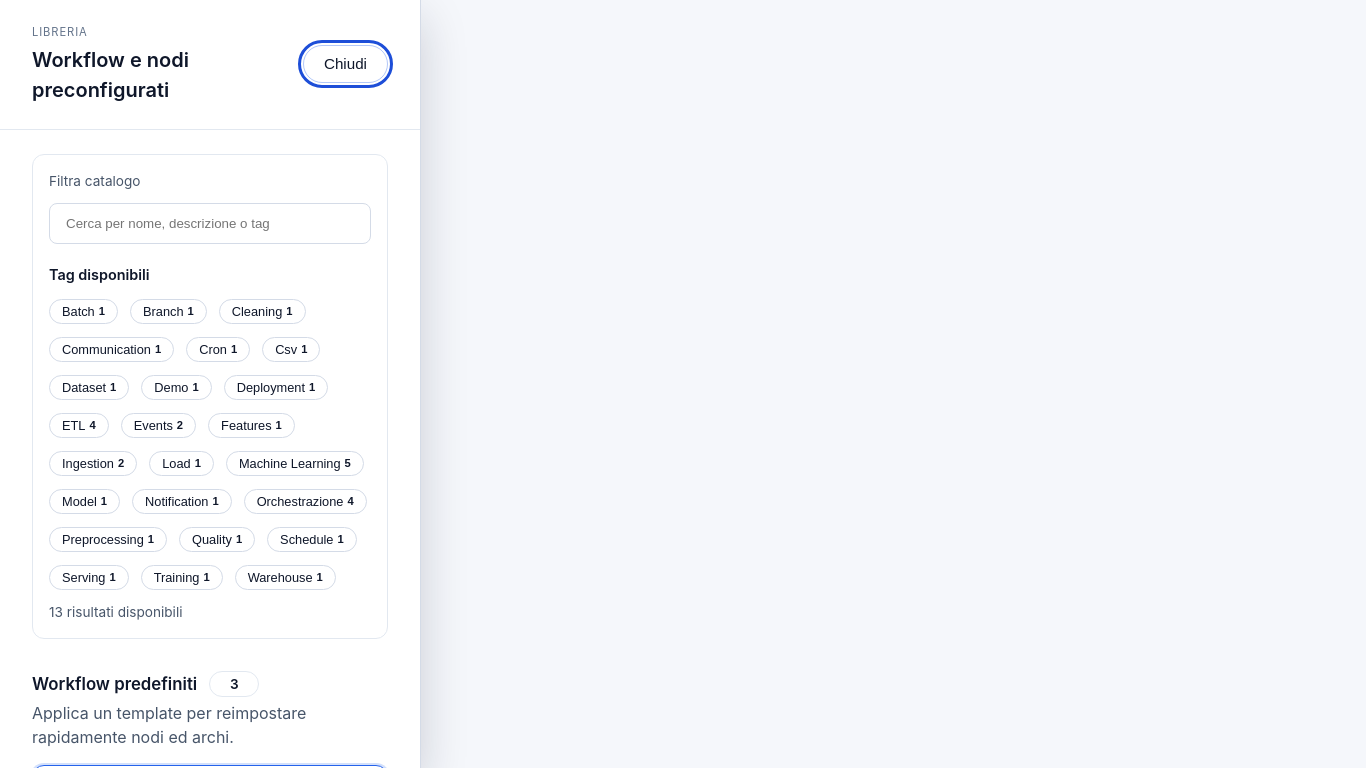
TemplateCatalog › permette di filtrare il catalogo tramite tag
Step 1. Click the button "Machine Learning 5" → (295,463), box [226,451,364,476]
(page scrolled)
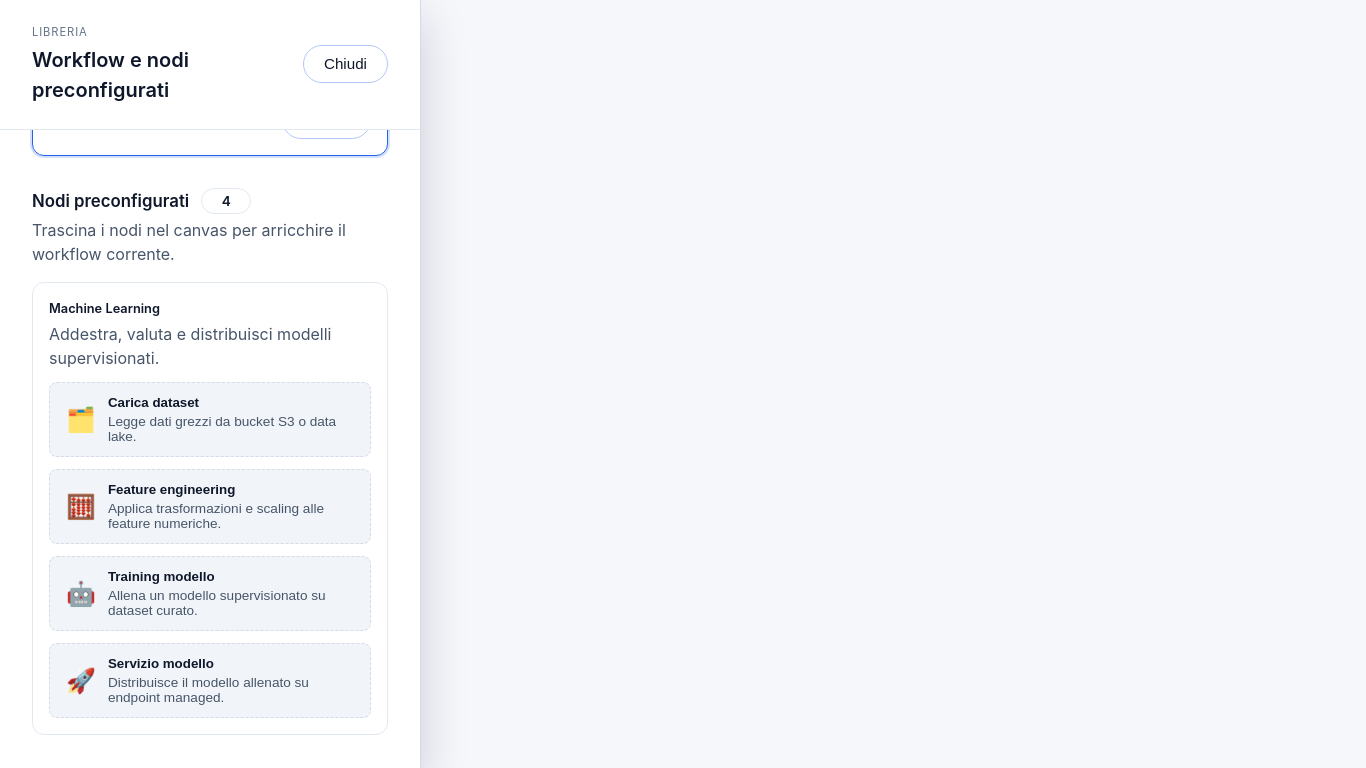
Result: the text "Feature engineering" is shown at [108,482,235,497]
